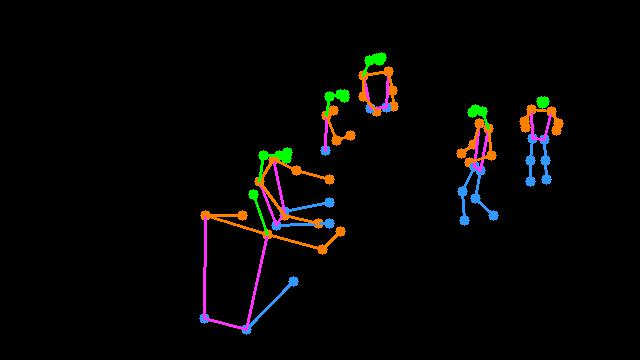normal: (445, 89, 506, 230), (515, 85, 567, 193)
